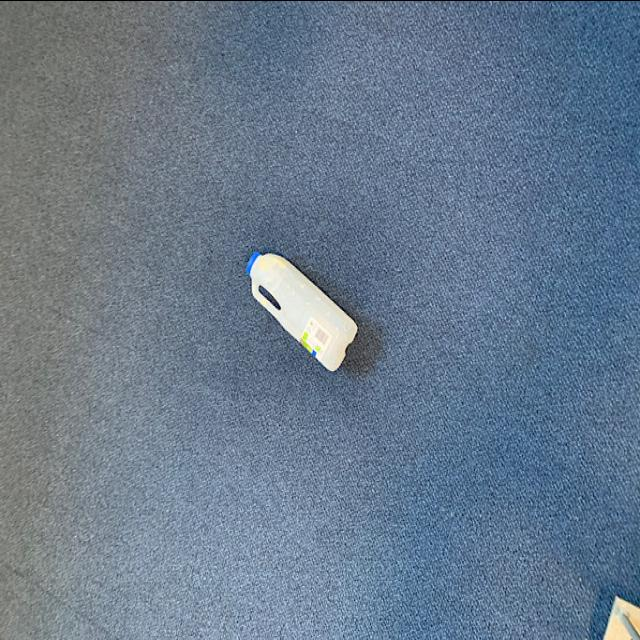litter: (243, 238, 357, 374)
